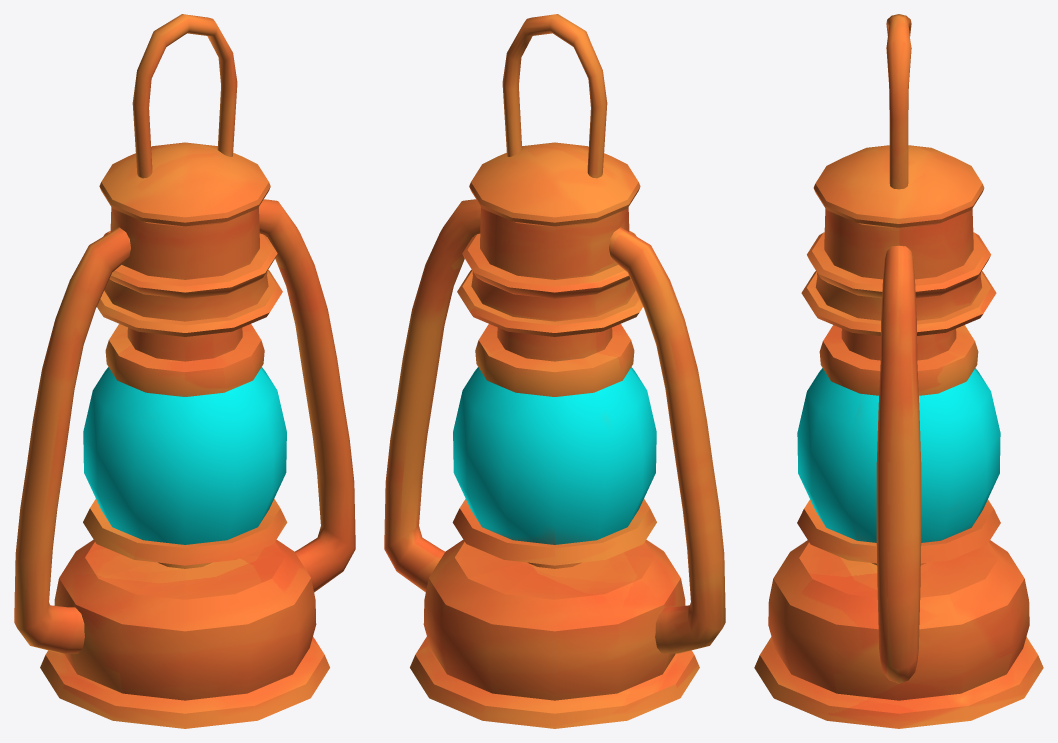
Rendered from OilLamp.fbx.
3 views of the same model, side by side, from view 1: azimuth 30°, elevation 25°; view 2: azimuth 150°, elevation 25°; view 3: azimuth 270°, elevation 25° (orthographic).
Parts seen in each view (by area): view 1: OilLamp; view 2: OilLamp; view 3: OilLamp.
Boxes of the visible parts, x1=… form: OilLamp: x1=14, y1=14, x2=355, y2=728; OilLamp: x1=384, y1=14, x2=725, y2=728; OilLamp: x1=754, y1=14, x2=1043, y2=728.
Bounding box in the file's own units: 29.56 × 55.03 × 22.16.
1 material, 1 textured.
